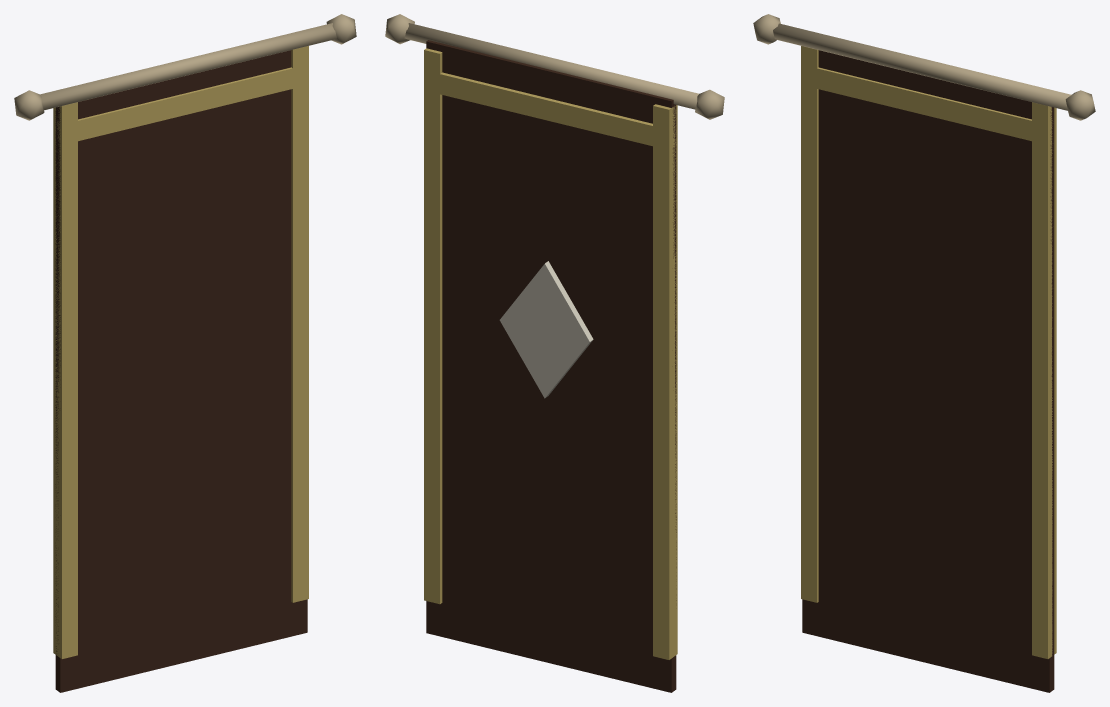
The model's file is vulture_banner_v0.glb.
3 views of the same model, side by side, from view 1: azimuth 30°, elevation 25°; view 2: azimuth 150°, elevation 25°; view 3: azimuth 330°, elevation 25° (orthographic).
Visible parts, largest first — view 1: vulture_banner_v0; view 2: vulture_banner_v0; view 3: vulture_banner_v0.
Boxes of the visible parts, box(x1,y1,x2,y2) form: vulture_banner_v0: box(14, 14, 356, 692); vulture_banner_v0: box(385, 14, 724, 692); vulture_banner_v0: box(753, 14, 1095, 692).
Size of the model in its own units: 1.04 by 1.8 by 0.0933.
